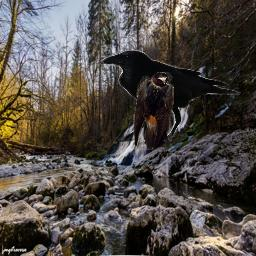Crow: (100, 50, 241, 144)
Swallow: (133, 72, 174, 150)
